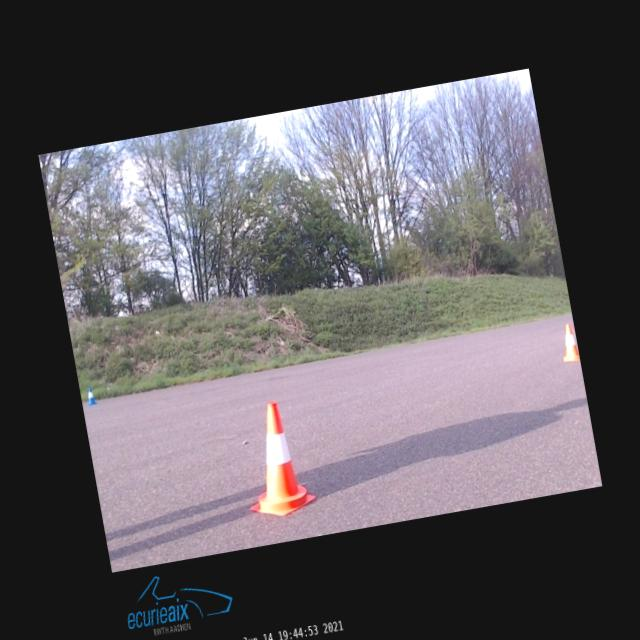blue_cone: (85, 386, 96, 405)
orange_cone: (232, 398, 318, 520), (557, 322, 579, 362)
